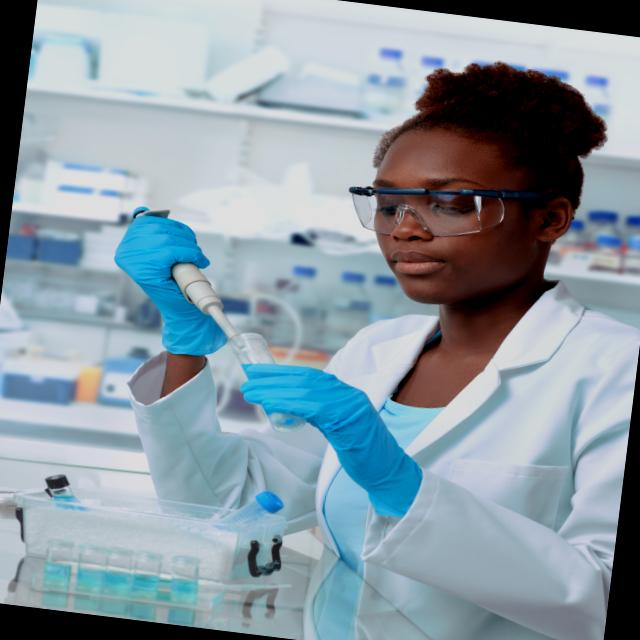goggles: (330, 164, 570, 265)
no-helmet: (320, 39, 620, 191)
no-vest: (252, 297, 640, 640)
